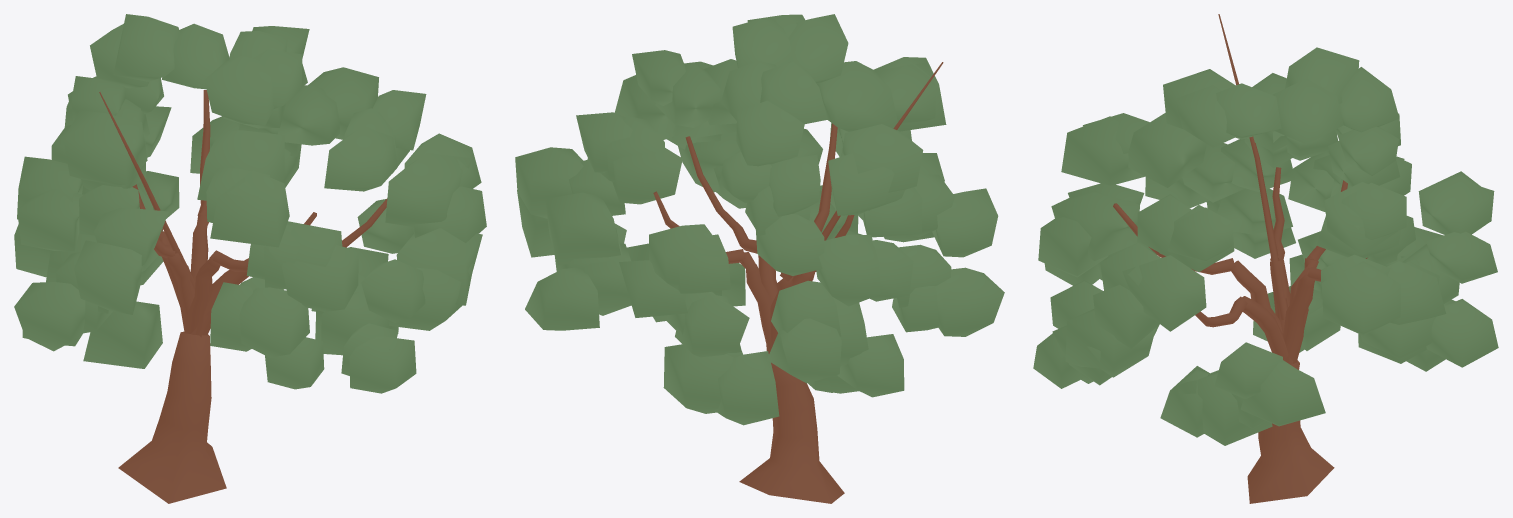
The model's file is Blender_WesternJuniper_1_Far.glb.
The picture shows the model from 3 angles, left to right: view 1: azimuth 30°, elevation 25°; view 2: azimuth 150°, elevation 25°; view 3: azimuth 270°, elevation 25°; orthographic projection. The views are drawn at different scales.
Parts seen in each view (by area): view 1: Blender_WesternJuniper_1_Far; view 2: Blender_WesternJuniper_1_Far; view 3: Blender_WesternJuniper_1_Far.
Part boxes in pixels (box(x1,y1,x2,y2)): Blender_WesternJuniper_1_Far: box(14, 14, 486, 503); Blender_WesternJuniper_1_Far: box(515, 14, 1004, 503); Blender_WesternJuniper_1_Far: box(1033, 14, 1498, 503).
Size of the model in its own units: 10.4 by 9.64 by 9.31.
